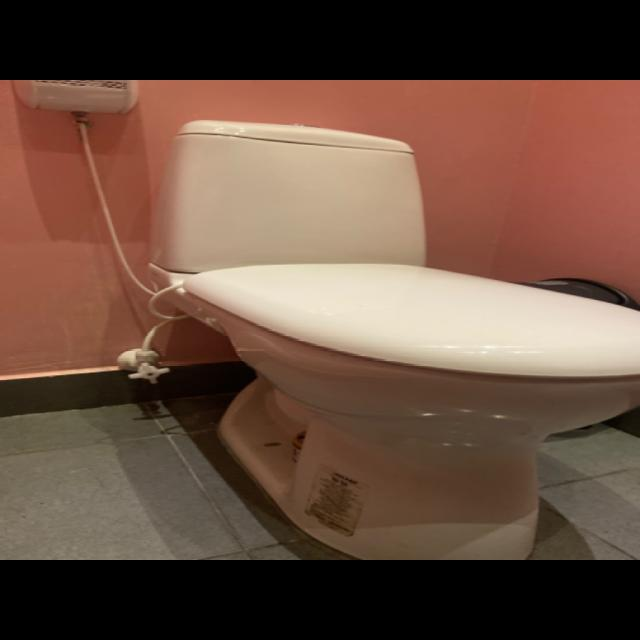toilet: (146, 119, 637, 559)
